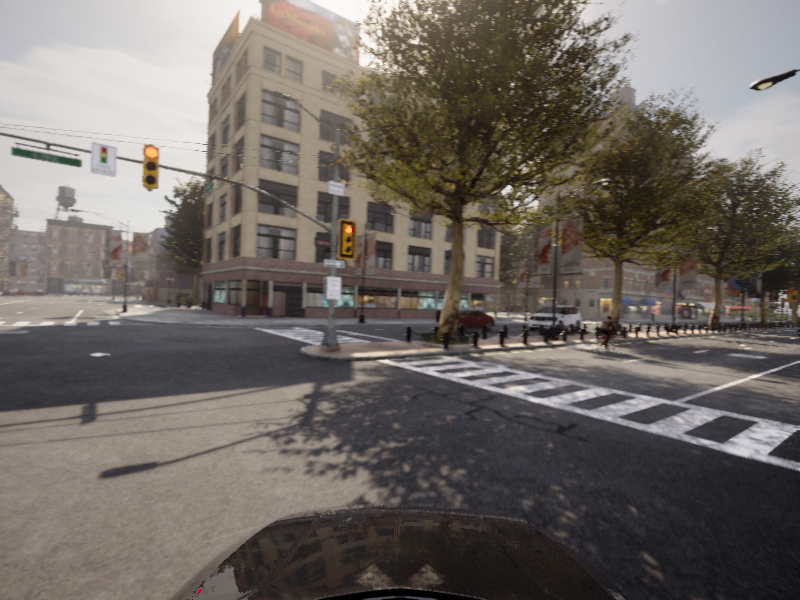vehicle: (524, 303, 585, 334), (434, 308, 499, 331), (590, 315, 623, 354), (796, 323, 799, 343)
